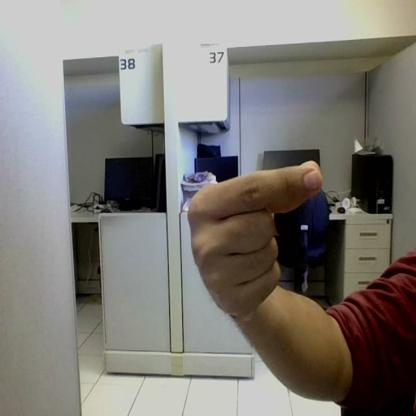G: (188, 166, 322, 320)
